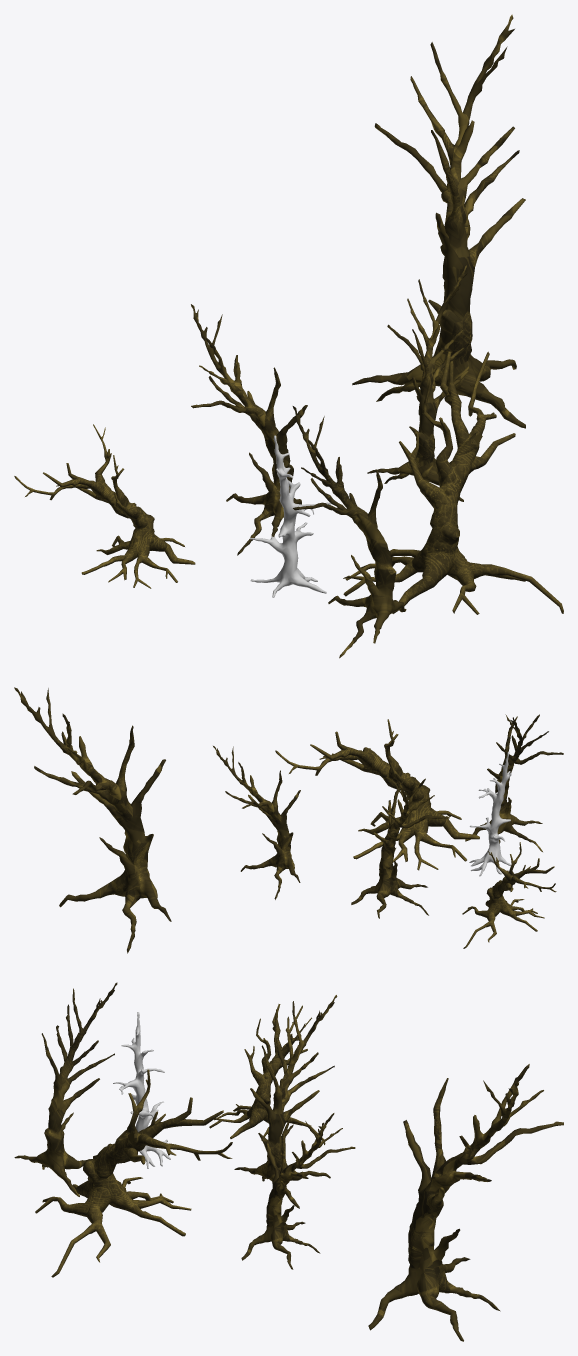
Rendered from Environment.fbx.
3 renders of one model, top to bottom at view 1: azimuth 30°, elevation 25°; view 2: azimuth 150°, elevation 25°; view 3: azimuth 270°, elevation 25°, orthographic. The views are drawn at different scales.
Visible parts, largest first — view 1: tree9, tree3, tree7, tree5, tree10, tree8, tree1; view 2: tree9, tree3, tree5, tree8, tree10, tree7, tree1; view 3: tree9, tree3, tree7, tree5, tree8, tree10, tree1.
Boxes of the visible parts, x1,y1,x2,y2 form: tree9: [352, 14, 525, 428]; tree3: [343, 351, 563, 614]; tree7: [292, 406, 406, 658]; tree5: [191, 304, 307, 555]; tree10: [14, 424, 195, 588]; tree8: [367, 265, 468, 501]; tree1: [249, 435, 331, 597]; tree9: [14, 687, 171, 953]; tree3: [275, 719, 479, 870]; tree5: [351, 778, 449, 918]; tree8: [213, 746, 300, 899]; tree10: [462, 842, 556, 948]; tree7: [465, 714, 563, 851]; tree1: [469, 751, 511, 876]; tree9: [368, 1064, 563, 1341]; tree3: [35, 1069, 232, 1277]; tree7: [14, 982, 117, 1196]; tree5: [234, 995, 337, 1208]; tree8: [241, 1113, 355, 1269]; tree10: [209, 1004, 325, 1144]; tree1: [113, 1012, 170, 1168].
Size of the model in its own units: 3409 by 1787 by 3075.
